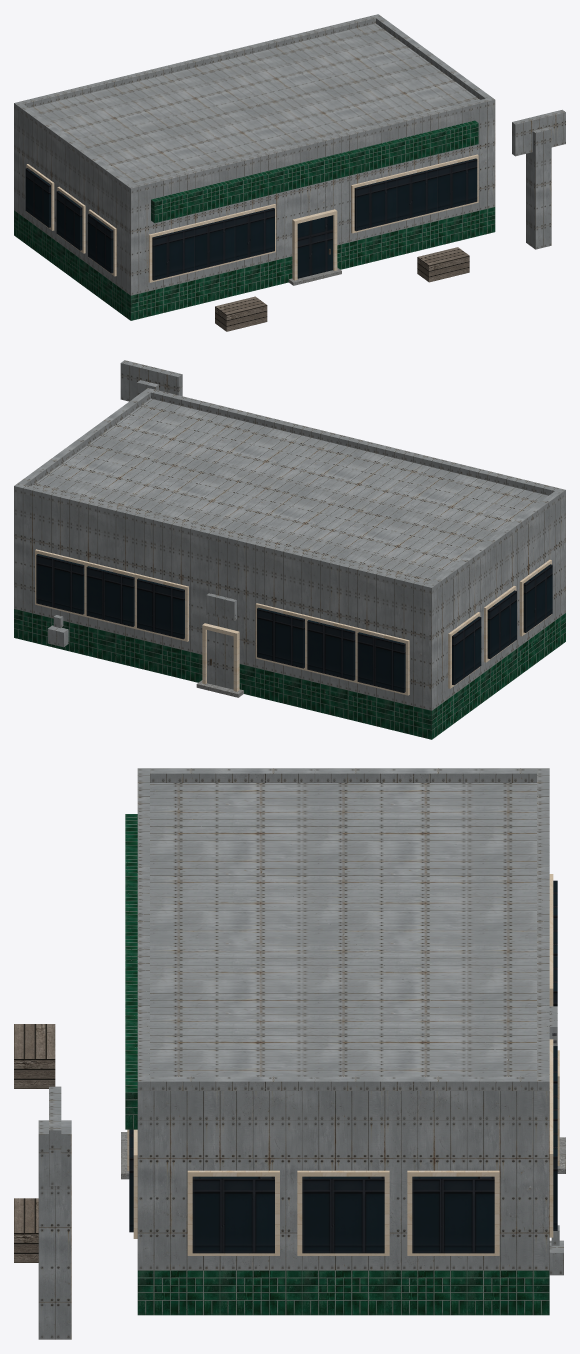
File: crossroads-diner_lod0.gltf
The picture shows the model from 3 angles, top to bottom: view 1: azimuth 30°, elevation 25°; view 2: azimuth 150°, elevation 25°; view 3: azimuth 270°, elevation 25°; orthographic projection. The views are drawn at different scales.
Visible parts, largest first — view 1: crossroads-diner_upper, crossroads-diner_fen_07-glass-curtain-blue_1_t, crossroads-diner_base, crossroads-diner__sign_band, crossroads-diner_fen_04-limestone_0, crossroads-diner__parapet_front, crossroads-diner__parapet_back, crossroads-diner__pylon, crossroads-diner__pylon_sign, crossroads-diner__picnic_table_b, crossroads-diner__picnic_table_a, crossroads-diner__parapet_left (+1 smaller); view 2: crossroads-diner_upper, crossroads-diner_fen_07-glass-curtain-blue_1_t, crossroads-diner_base, crossroads-diner_fen_04-limestone_0, crossroads-diner__parapet_back, crossroads-diner__parapet_front, crossroads-diner_fen_14-steel-panel_4, crossroads-diner__parapet_left, crossroads-diner__parapet_right, crossroads-diner__pylon_sign; view 3: crossroads-diner_upper, crossroads-diner_fen_07-glass-curtain-blue_1_t, crossroads-diner_base, crossroads-diner_fen_04-limestone_0, crossroads-diner__pylon, crossroads-diner__parapet_left, crossroads-diner__parapet_right, crossroads-diner__parapet_front, crossroads-diner__parapet_back, crossroads-diner__sign_band, crossroads-diner__picnic_table_a, crossroads-diner__picnic_table_b (+2 smaller).
Part boxes in pixels (x1,y1,x2,y2): crossroads-diner_upper: [14, 23, 495, 295]; crossroads-diner_fen_07-glass-curtain-blue_1_t: [25, 158, 477, 280]; crossroads-diner_base: [14, 207, 495, 320]; crossroads-diner__sign_band: [151, 120, 478, 223]; crossroads-diner_fen_04-limestone_0: [26, 154, 478, 282]; crossroads-diner__parapet_front: [127, 97, 495, 193]; crossroads-diner__parapet_back: [14, 14, 381, 110]; crossroads-diner__pylon: [526, 127, 551, 249]; crossroads-diner__pylon_sign: [512, 109, 565, 156]; crossroads-diner__picnic_table_b: [417, 247, 469, 282]; crossroads-diner__picnic_table_a: [215, 296, 267, 331]; crossroads-diner__parapet_left: [17, 104, 132, 190]; crossroads-diner_upper: [14, 398, 565, 710]; crossroads-diner_fen_07-glass-curtain-blue_1_t: [36, 554, 552, 692]; crossroads-diner_base: [14, 609, 565, 739]; crossroads-diner_fen_04-limestone_0: [35, 549, 551, 695]; crossroads-diner__parapet_back: [14, 483, 435, 593]; crossroads-diner__parapet_front: [144, 388, 565, 498]; crossroads-diner_fen_14-steel-panel_4: [47, 593, 236, 689]; crossroads-diner__parapet_left: [429, 491, 561, 590]; crossroads-diner__parapet_right: [18, 391, 150, 485]; crossroads-diner__pylon_sign: [120, 360, 182, 401]; crossroads-diner_upper: [137, 783, 549, 1270]; crossroads-diner_fen_07-glass-curtain-blue_1_t: [129, 880, 557, 1253]; crossroads-diner_base: [137, 1270, 549, 1315]; crossroads-diner_fen_04-limestone_0: [127, 874, 559, 1255]; crossroads-diner__pylon: [38, 1120, 71, 1339]; crossroads-diner__parapet_left: [150, 768, 536, 782]; crossroads-diner__parapet_right: [150, 1076, 536, 1090]; crossroads-diner__parapet_front: [137, 768, 149, 1090]; crossroads-diner__parapet_back: [537, 768, 549, 1090]; crossroads-diner__sign_band: [125, 814, 137, 1129]; crossroads-diner__picnic_table_a: [14, 1024, 55, 1088]; crossroads-diner__picnic_table_b: [14, 1198, 38, 1262].
Bounding box in the file's own units: 20.45 × 6.25 × 13.4.
